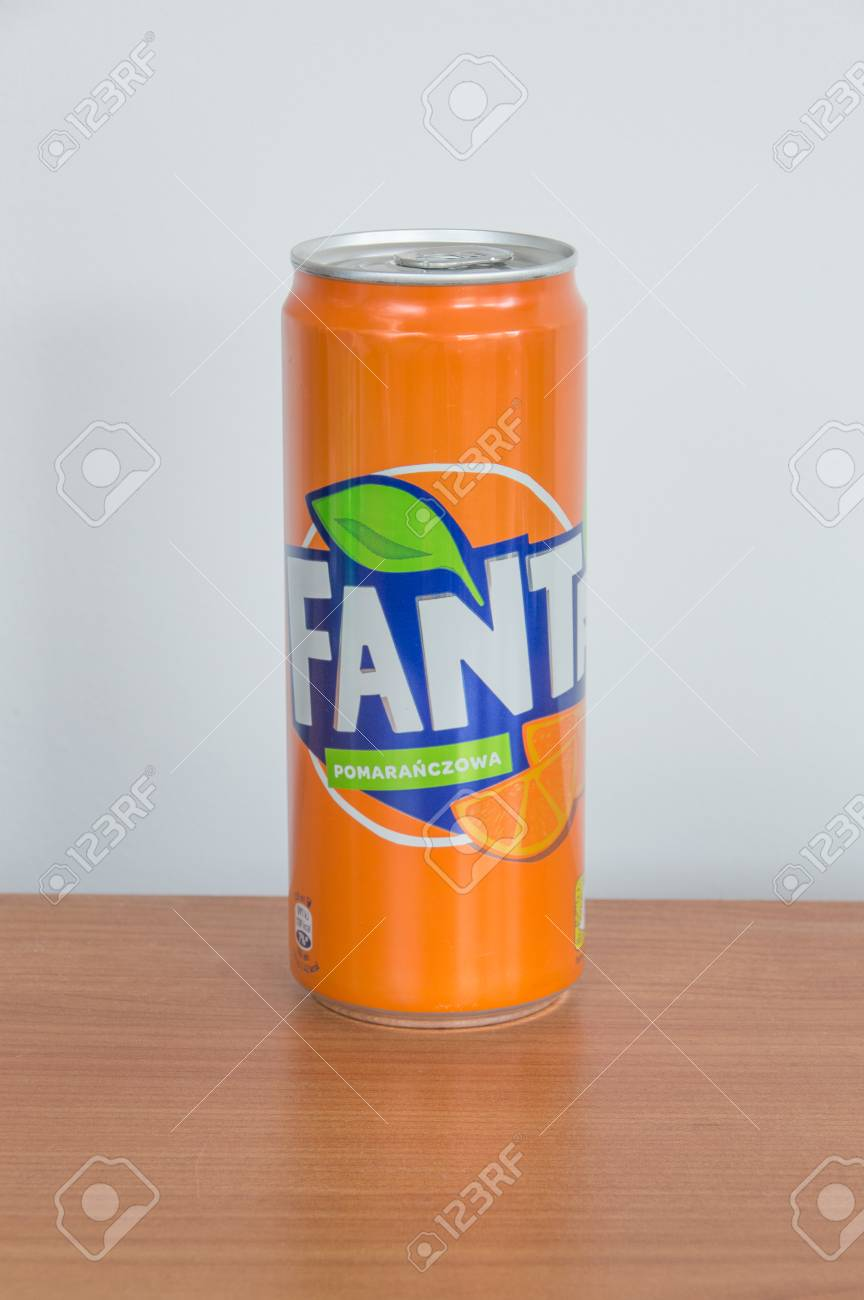fanta_can: (280, 235, 589, 1029)
